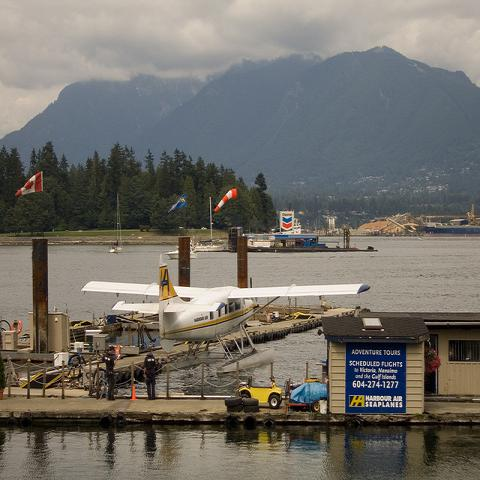car: (238, 375, 282, 409)
truck: (230, 376, 282, 410)
